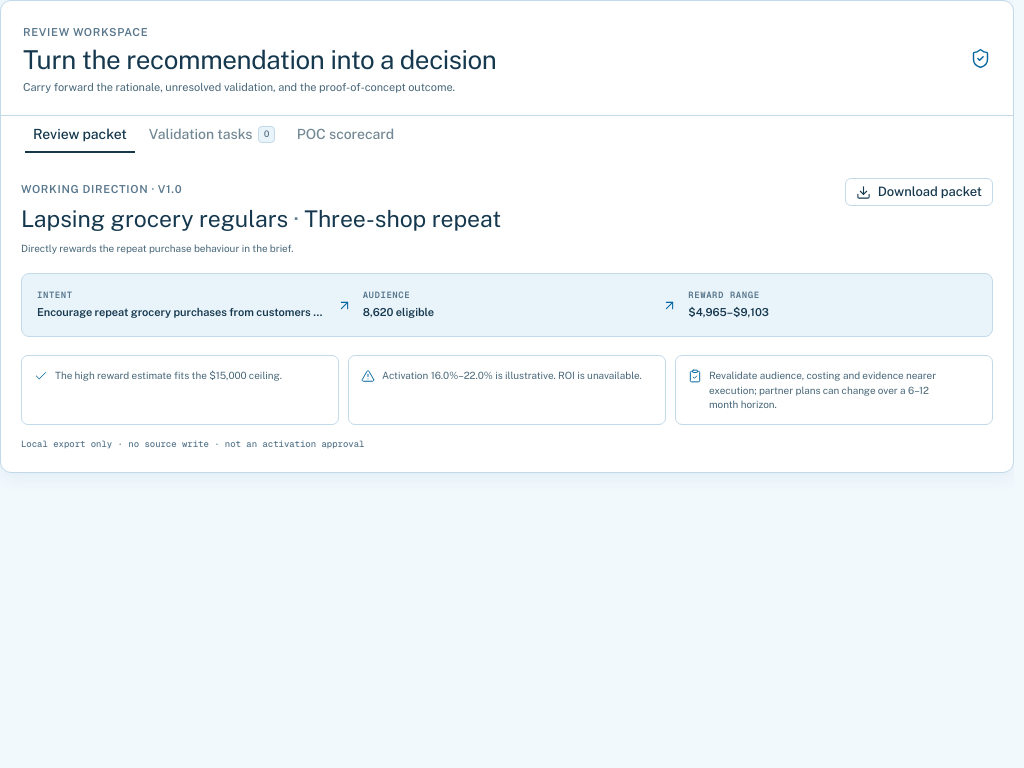
Scenario: review workspace › keeps follow-ups local and labels unmeasured outcomes honestly
The image size is (1024, 768).
Click the tab "Validation tasks 0".
click(212, 134)  # box [140,120,284,149]
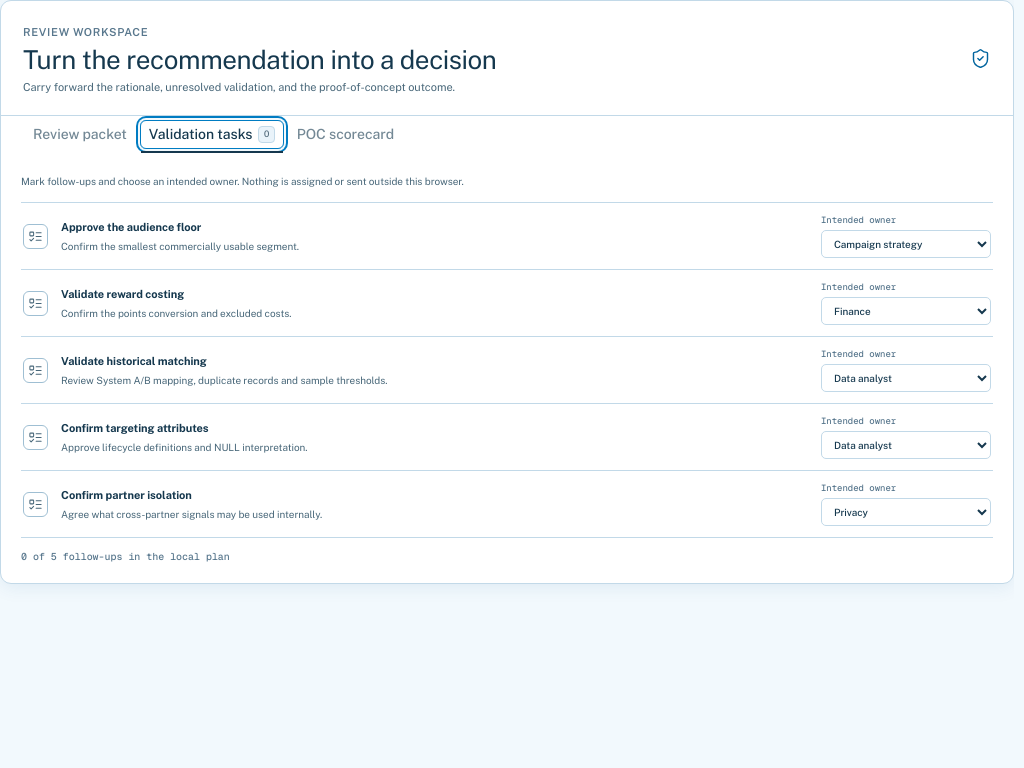
Click the button named "Add Approve the audience floor to follow-up plan".
click(36, 236)  # box [23,224,48,249]
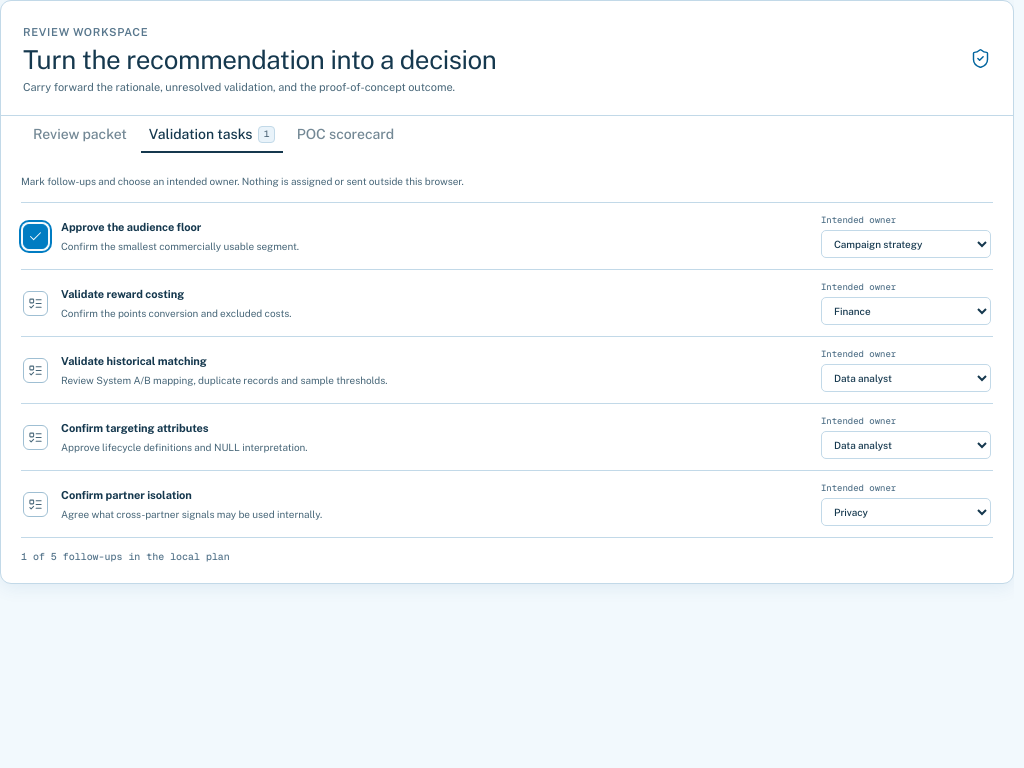
Now the tab "Validation tasks 1" is shown, box [140,120,284,149]
Click the tab "POC scorecard".
click(345, 134)  # box [288,120,403,149]
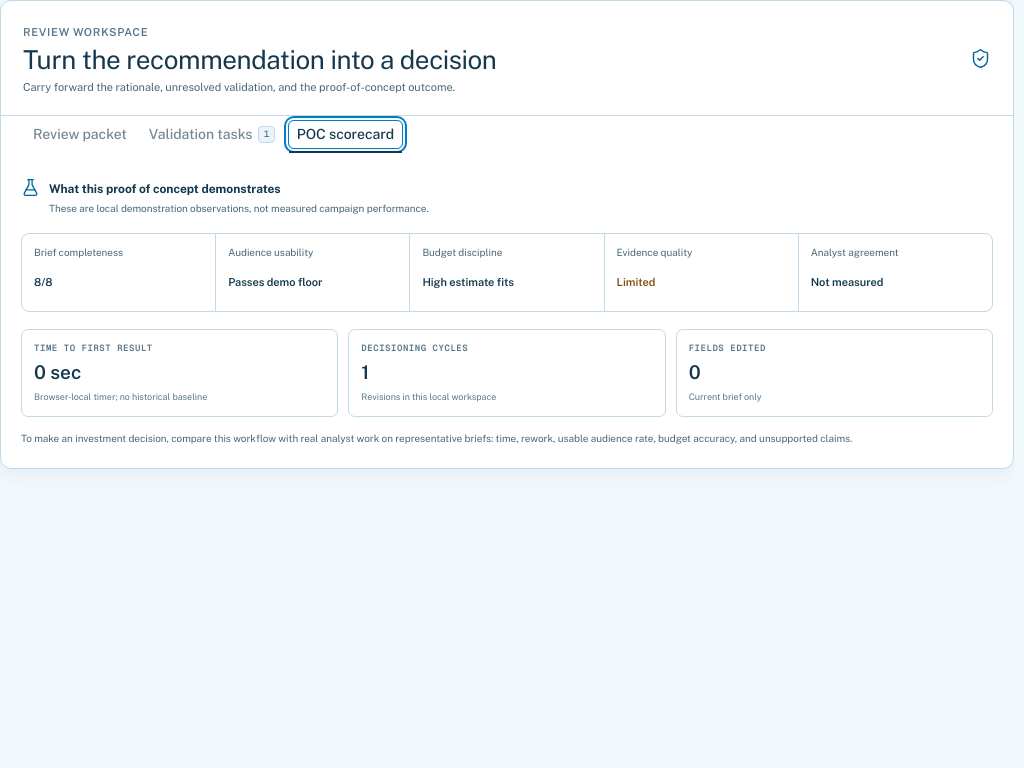
Now the text "Analyst agreement" is shown, box [811,246,899,258]
Now the text "Not measured" is shown, box [811,276,883,288]
